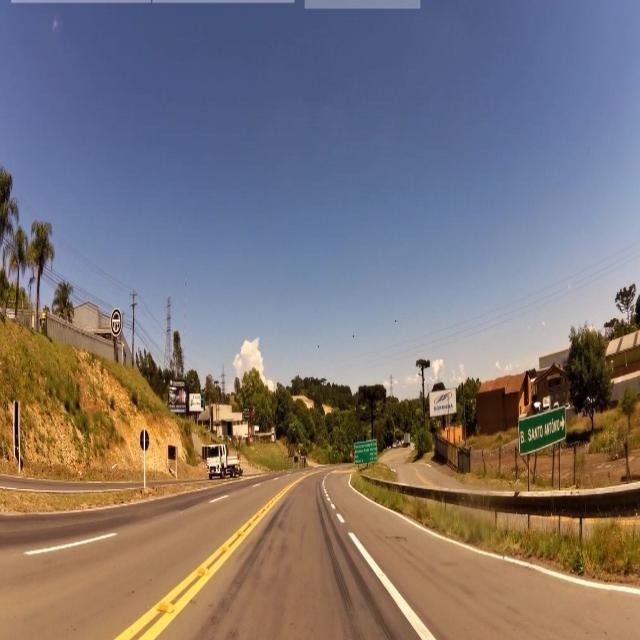I-4: (517, 411, 565, 447)
